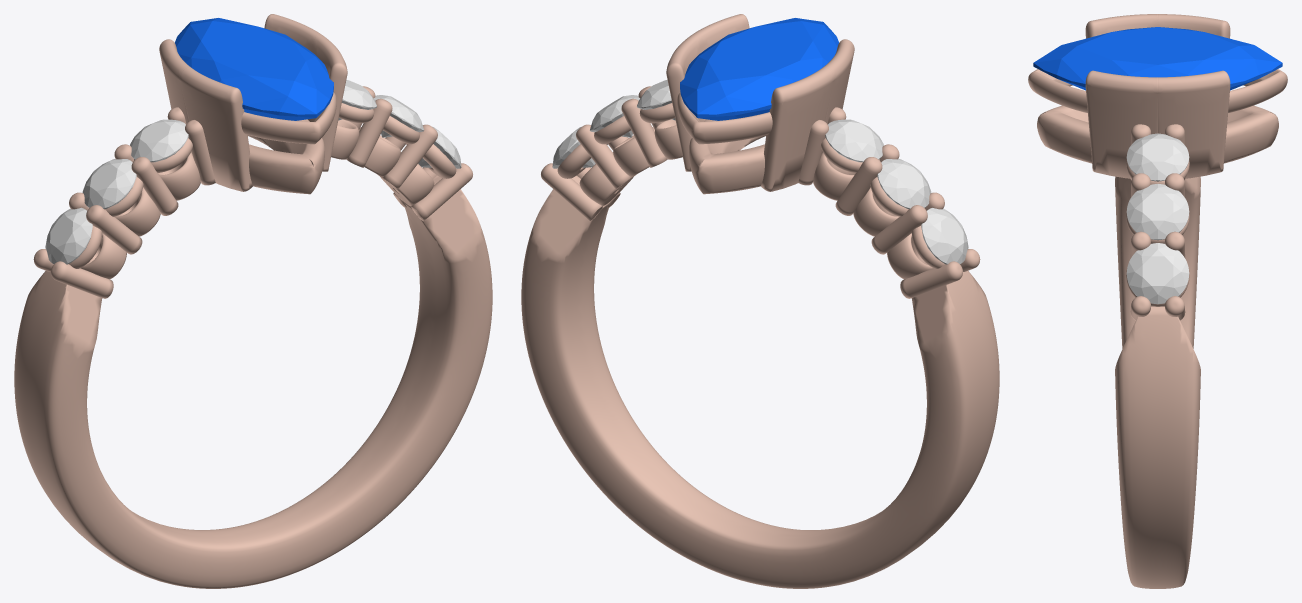
The model's file is bluesapphire-marquise-rosegold-halfmoonbezel-straighttaperedband-7stone.glb.
3 views of the same model, side by side, from view 1: azimuth 30°, elevation 25°; view 2: azimuth 150°, elevation 25°; view 3: azimuth 270°, elevation 25° (orthographic).
Parts seen in each view (by area): view 1: metal.003, stone.001, dia.002, dia.015, dia.016, dia.018, dia.019; view 2: metal.003, stone.001, dia.002, dia.015, dia.016, dia.018, dia.019; view 3: metal.003, stone.001, dia.017, dia.018, dia.019.
Part boxes in pixels (left/top/right/bottom): metal.003: left=14, top=14, right=492, bottom=588; stone.001: left=175, top=18, right=333, bottom=120; dia.002: left=45, top=207, right=92, bottom=264; dia.015: left=82, top=159, right=136, bottom=209; dia.016: left=130, top=119, right=188, bottom=162; dia.018: left=374, top=95, right=423, bottom=137; dia.019: left=338, top=80, right=376, bottom=120; metal.003: left=521, top=14, right=999, bottom=588; stone.001: left=680, top=18, right=838, bottom=120; dia.002: left=921, top=208, right=968, bottom=264; dia.015: left=877, top=159, right=931, bottom=209; dia.016: left=825, top=119, right=883, bottom=162; dia.018: left=589, top=95, right=639, bottom=137; dia.019: left=637, top=80, right=675, bottom=120; metal.003: left=1028, top=14, right=1287, bottom=588; stone.001: left=1033, top=27, right=1282, bottom=90; dia.017: left=1126, top=243, right=1189, bottom=304; dia.018: left=1126, top=184, right=1189, bottom=240; dia.019: left=1126, top=133, right=1189, bottom=181.
Bounding box in the file's own units: 20.5 × 22.93 × 10.4.
